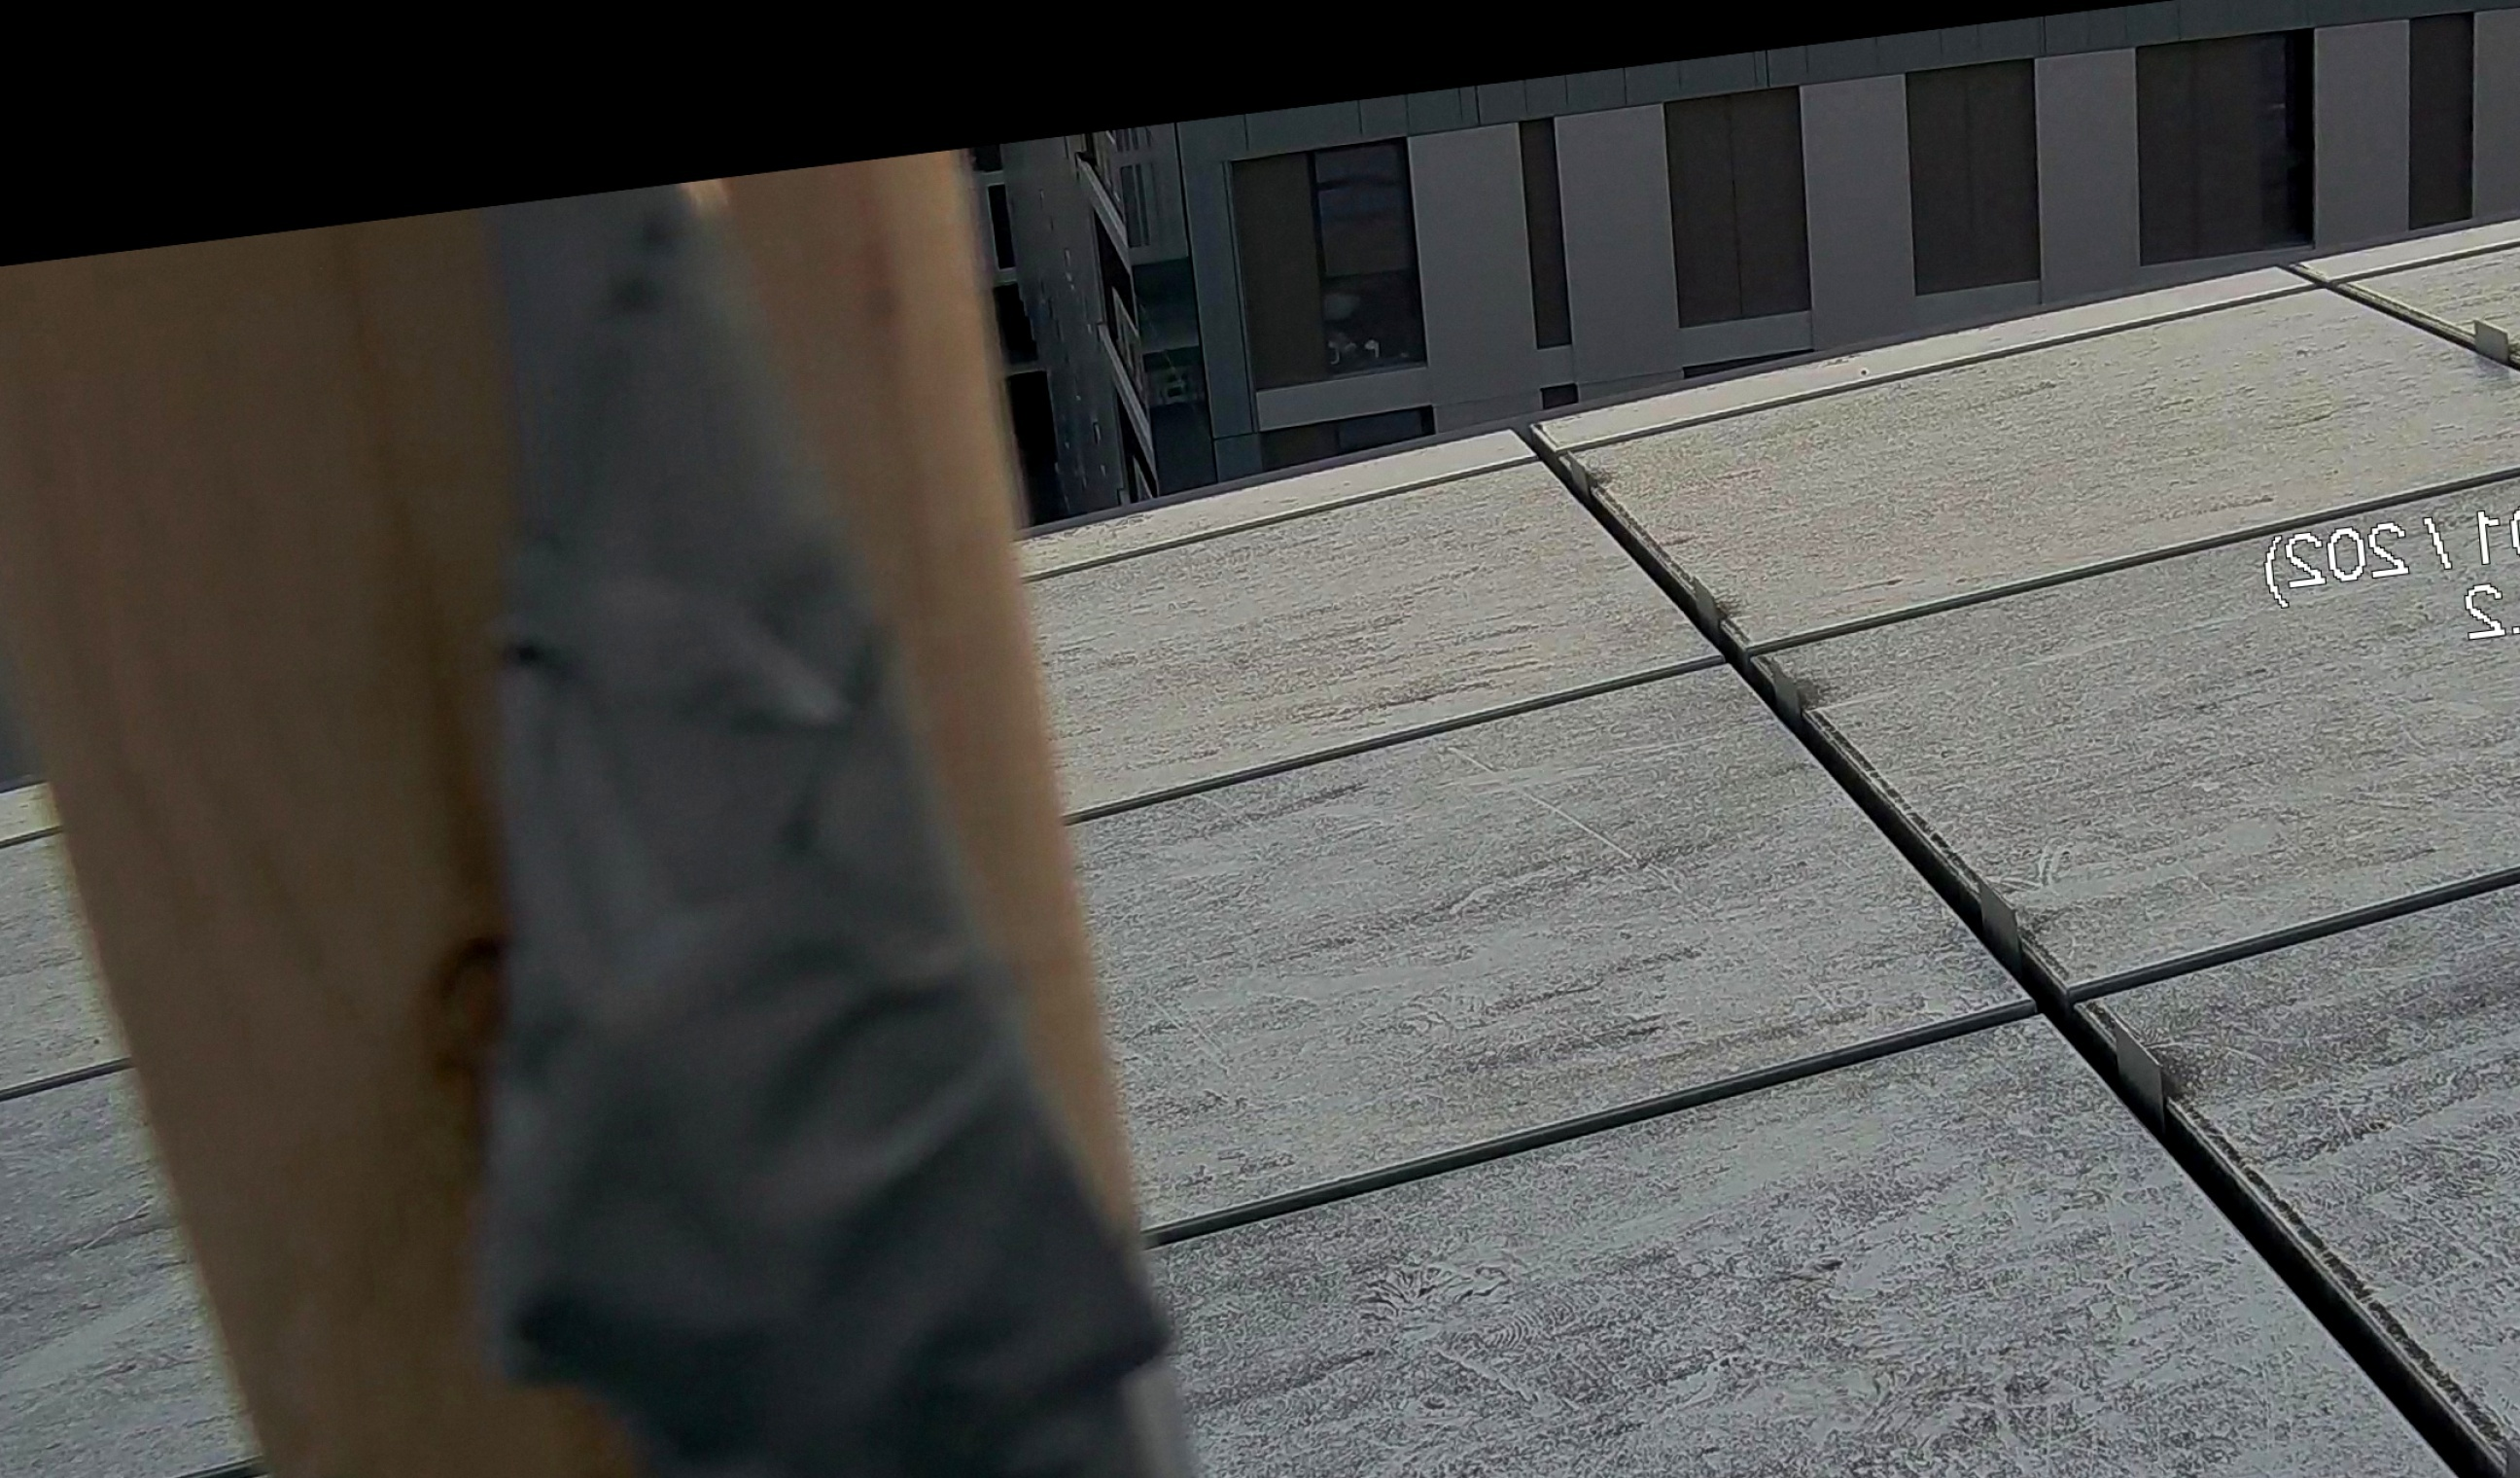Other: (0, 137, 1231, 1478)
